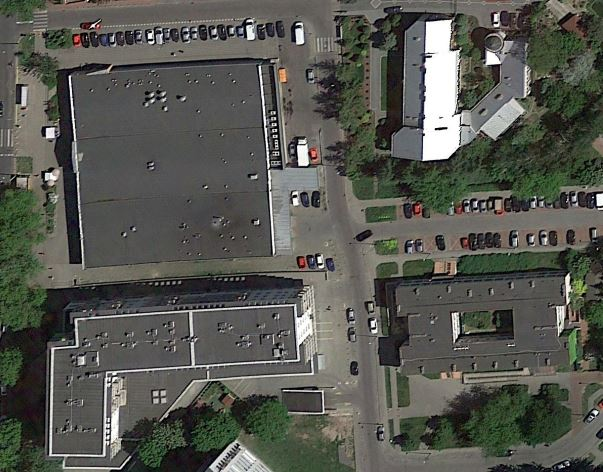block of flats: (39, 279, 332, 470), (382, 261, 581, 391), (384, 11, 468, 168)
shopping_center: (54, 42, 321, 280)
